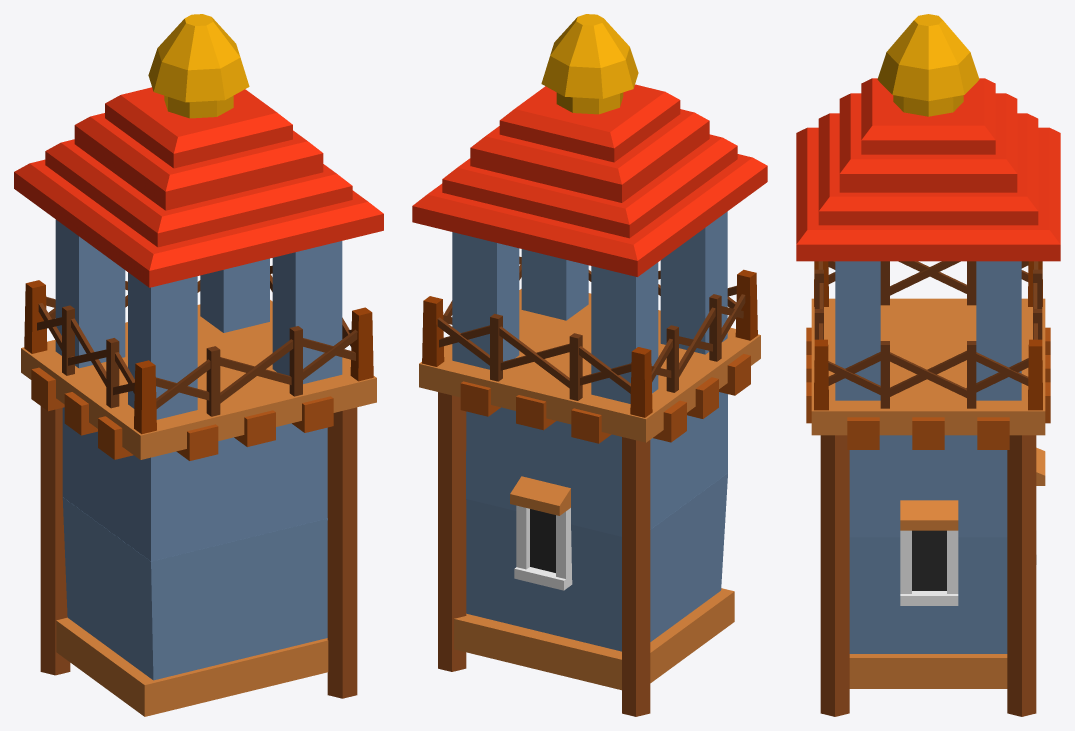
Rendered from TownHall.fbx.
3 renders of one model, left to right at view 1: azimuth 30°, elevation 25°; view 2: azimuth 150°, elevation 25°; view 3: azimuth 270°, elevation 25°, orthographic. The views are drawn at different scales.
Parts seen in each view (by area): view 1: TownHall; view 2: TownHall; view 3: TownHall.
Part boxes in pixels (x1,y1,x2,y2): TownHall: (14, 14, 383, 716); TownHall: (412, 14, 767, 716); TownHall: (796, 14, 1060, 716).
Bounding box in the file's own units: 9.78 × 24.48 × 9.1.
